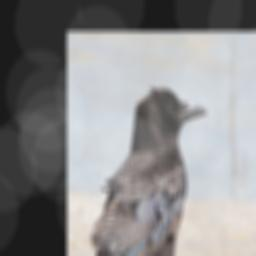Crow: (80, 86, 209, 256)
